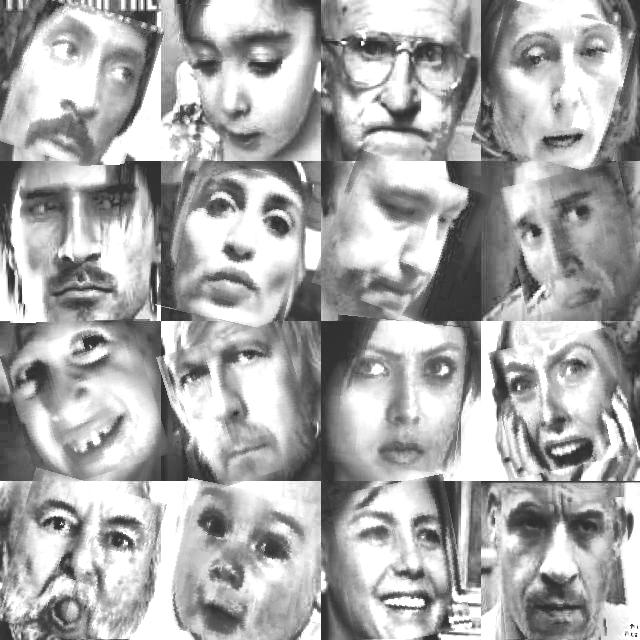angry: (165, 328, 312, 488), (324, 11, 473, 159), (326, 317, 466, 471), (496, 499, 635, 640)
fear: (505, 166, 640, 311), (494, 332, 632, 473)
happy: (2, 475, 157, 640), (8, 325, 162, 484), (162, 162, 307, 328), (163, 483, 310, 640), (335, 479, 465, 640)
neutral: (0, 0, 154, 169), (173, 5, 315, 150)
sad: (321, 159, 483, 321), (479, 5, 637, 168), (7, 165, 149, 325)
